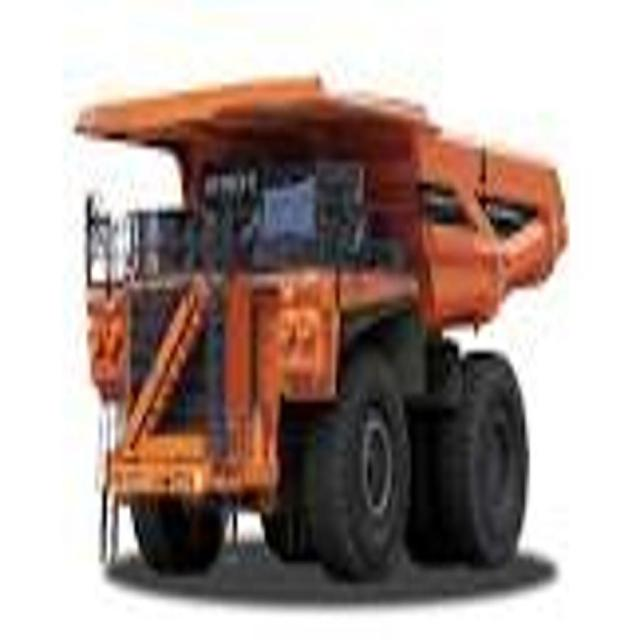dump_truck: (72, 74, 569, 615)
